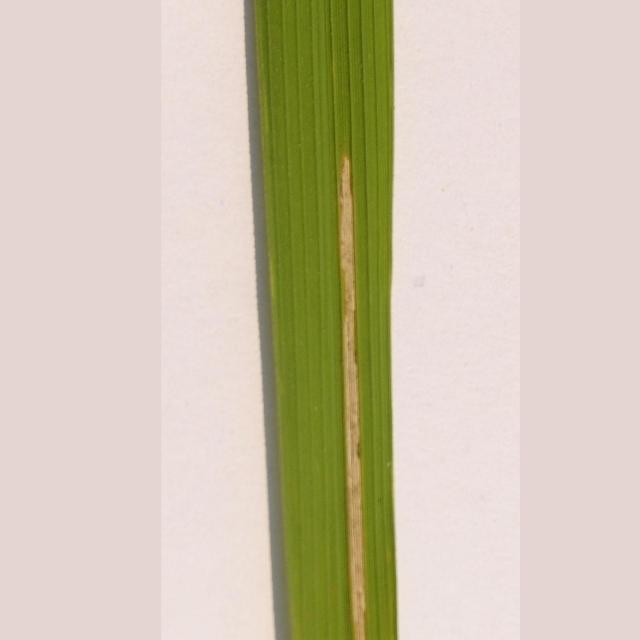leaf blight: (315, 144, 386, 640)
